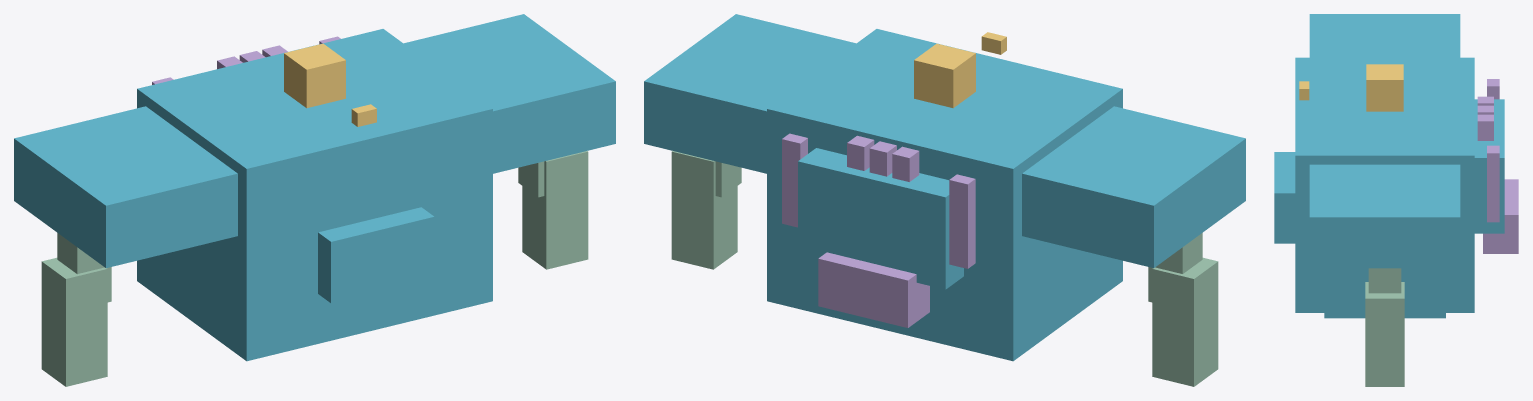
Rendered from mechfall_tricera.glb.
3 views of the same model, side by side, from view 1: azimuth 30°, elevation 25°; view 2: azimuth 150°, elevation 25°; view 3: azimuth 270°, elevation 25° (orthographic). The views are drawn at different scales.
Parts seen in each view (by area): view 1: TORSO HULL, SHOULDER L, SHOULDER R, REACTOR CORE, FOREARM L, FOREARM R, COCKPIT CANOPY, UPPER ARM L, UPPER ARM R; view 2: TORSO HULL, SHOULDER L, SHOULDER R, EW BACKPACK, FOREARM L, FOREARM R, COCKPIT CANOPY, THRUSTER 1, RADIATOR L, RADIATOR R, THRUSTER 3, THRUSTER 4 (+6 smaller); view 3: TORSO HULL, SHOULDER R, SHOULDER L, FOREARM R, EW BACKPACK, REACTOR CORE, COCKPIT CANOPY, THRUSTER 4, RADIATOR R, UPPER ARM R, HIP ASSEMBLY, JUMP JET 3 (+2 smaller).
Part boxes in pixels (left/top/right/bottom): TORSO HULL: left=137, top=29, right=492, bottom=361; SHOULDER L: left=14, top=106, right=237, bottom=268; SHOULDER R: left=404, top=14, right=615, bottom=173; REACTOR CORE: left=318, top=207, right=434, bottom=303; FOREARM L: left=41, top=257, right=107, bottom=386; FOREARM R: left=522, top=151, right=588, bottom=269; COCKPIT CANOPY: left=284, top=43, right=345, bottom=108; UPPER ARM L: left=57, top=233, right=111, bottom=302; UPPER ARM R: left=518, top=161, right=544, bottom=197; TORSO HULL: left=767, top=29, right=1122, bottom=361; SHOULDER L: left=1022, top=106, right=1245, bottom=268; SHOULDER R: left=644, top=14, right=855, bottom=173; EW BACKPACK: left=798, top=148, right=963, bottom=289; FOREARM L: left=1152, top=257, right=1218, bottom=386; FOREARM R: left=671, top=151, right=737, bottom=269; COCKPIT CANOPY: left=914, top=43, right=975, bottom=108; THRUSTER 1: left=874, top=266, right=929, bottom=327; RADIATOR L: left=949, top=174, right=975, bottom=268; RADIATOR R: left=782, top=133, right=807, bottom=227; THRUSTER 3: left=836, top=257, right=879, bottom=318; THRUSTER 4: left=818, top=252, right=852, bottom=310; TORSO HULL: left=1295, top=57, right=1474, bottom=312; SHOULDER R: left=1309, top=164, right=1460, bottom=268; SHOULDER L: left=1309, top=14, right=1460, bottom=57; FOREARM R: left=1365, top=282, right=1404, bottom=386; EW BACKPACK: left=1474, top=99, right=1504, bottom=233; REACTOR CORE: left=1274, top=152, right=1295, bottom=243; COCKPIT CANOPY: left=1366, top=64, right=1403, bottom=111; THRUSTER 4: left=1483, top=201, right=1518, bottom=253; RADIATOR R: left=1487, top=145, right=1499, bottom=222; UPPER ARM R: left=1368, top=268, right=1401, bottom=293; HIP ASSEMBLY: left=1324, top=313, right=1445, bottom=318; JUMP JET 3: left=1477, top=114, right=1493, bottom=140.
Size of the model in its own units: 7.87 by 3.71 by 3.91.
